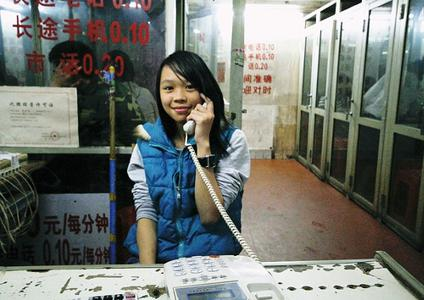person: (130, 52, 248, 271)
